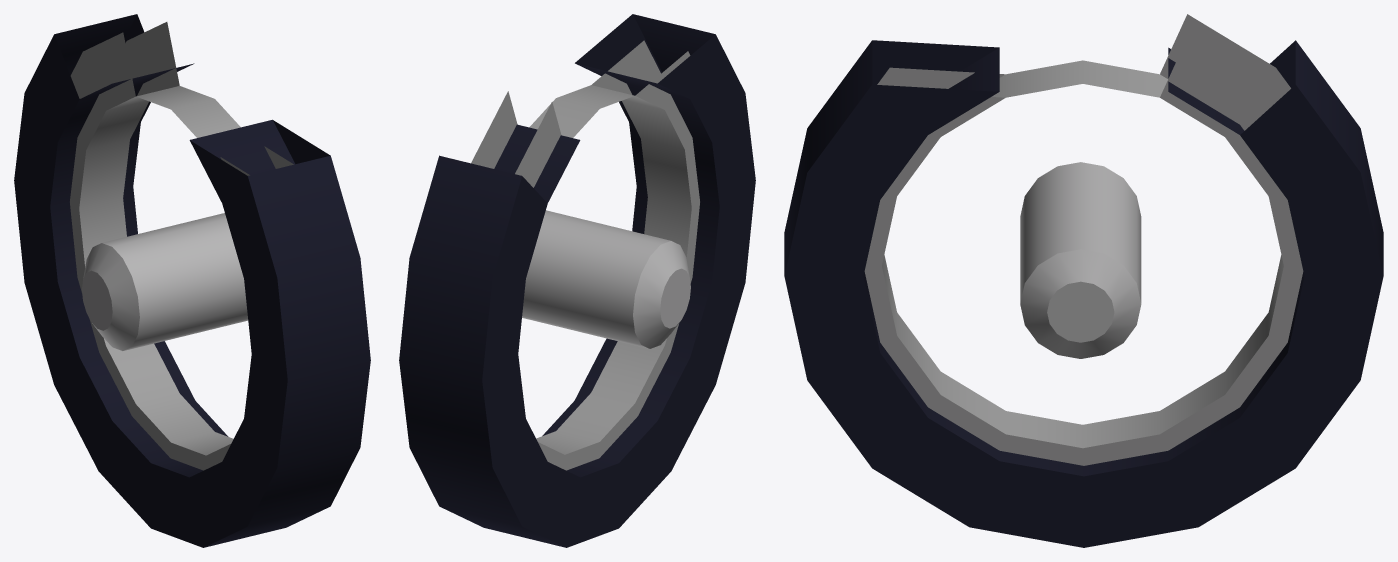
The model's file is wheelF.glb.
The picture shows the model from 3 angles, left to right: view 1: azimuth 30°, elevation 25°; view 2: azimuth 150°, elevation 25°; view 3: azimuth 270°, elevation 25°; orthographic projection. The views are drawn at different scales.
Visible parts, largest first — view 1: Tyre.029_Texture_0; view 2: Tyre.029_Texture_0; view 3: Tyre.029_Texture_0.
Part boxes in pixels (<box>): Tyre.029_Texture_0: <box>14,14,370,547</box>; Tyre.029_Texture_0: <box>399,14,755,547</box>; Tyre.029_Texture_0: <box>784,14,1383,547</box>.
Size of the model in its own units: 1.8 by 4.07 by 4.42.
1 material, 1 textured.
